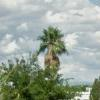Palm tree: (31, 20, 69, 77)
